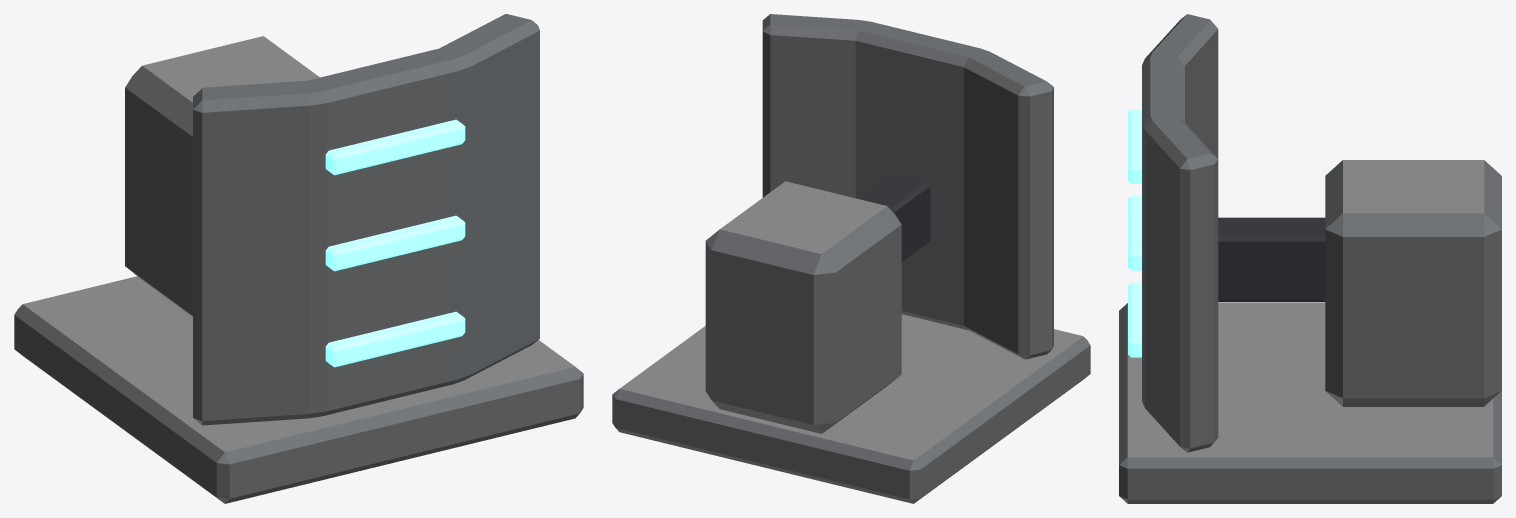
The model's file is R4X_DirectionalShield_LOD1.glb.
3 views of the same model, side by side, from view 1: azimuth 30°, elevation 25°; view 2: azimuth 150°, elevation 25°; view 3: azimuth 270°, elevation 25° (orthographic). The views are drawn at different scales.
Parts seen in each view (by area): view 1: R4X_DirectionalShield_LOD1; view 2: R4X_DirectionalShield_LOD1; view 3: R4X_DirectionalShield_LOD1.
Boxes of the visible parts, x1=… form: R4X_DirectionalShield_LOD1: x1=14, y1=14, x2=583, y2=503; R4X_DirectionalShield_LOD1: x1=612, y1=14, x2=1090, y2=503; R4X_DirectionalShield_LOD1: x1=1119, y1=14, x2=1501, y2=503.
Size of the model in its own units: 0.52 by 0.51 by 0.52.
